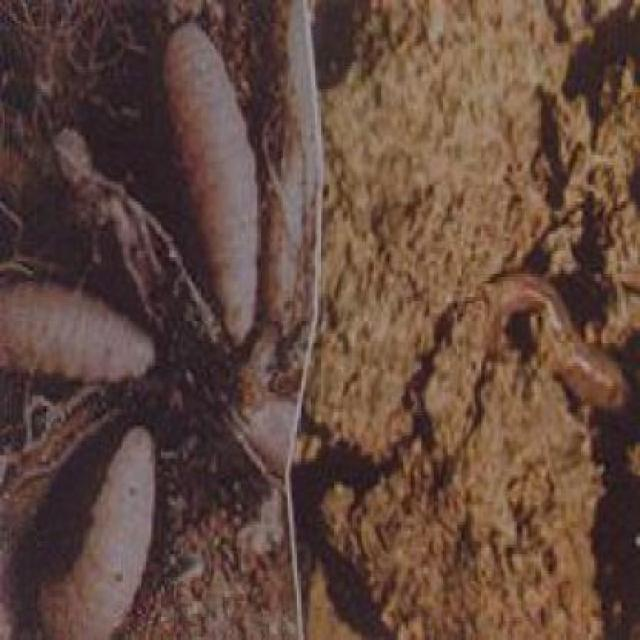whorl-maggot: (156, 18, 261, 355), (33, 419, 163, 640), (3, 277, 160, 384)
